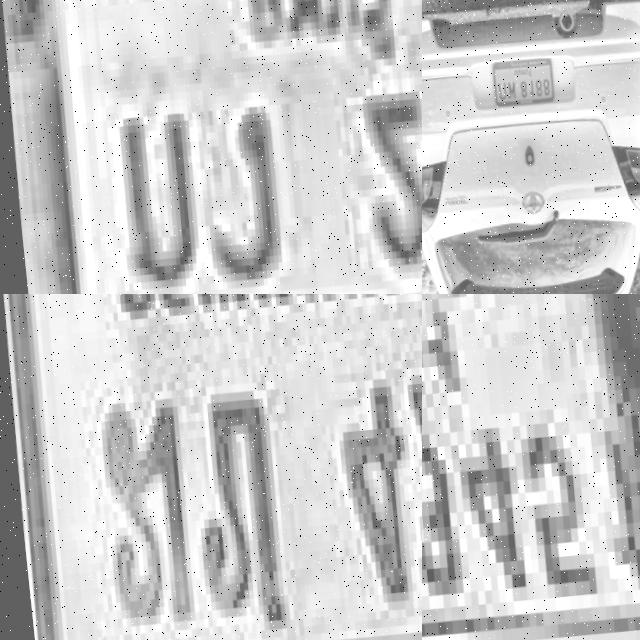license-plate: (0, 294, 422, 640), (13, 0, 422, 294), (422, 294, 640, 640), (482, 54, 552, 117)
